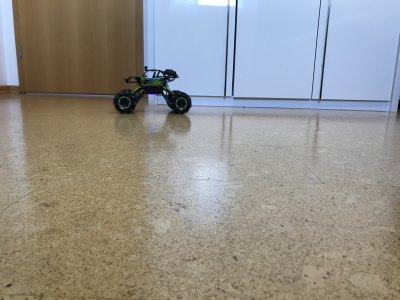remote control car: (110, 64, 194, 116)
